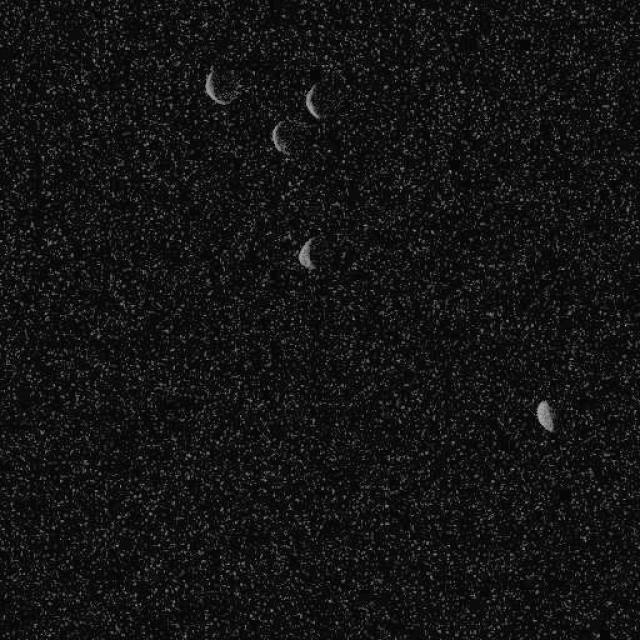D2: (0, 0, 639, 639), (202, 65, 242, 105), (270, 118, 298, 156), (304, 81, 325, 120), (534, 398, 556, 432), (296, 235, 316, 271)
